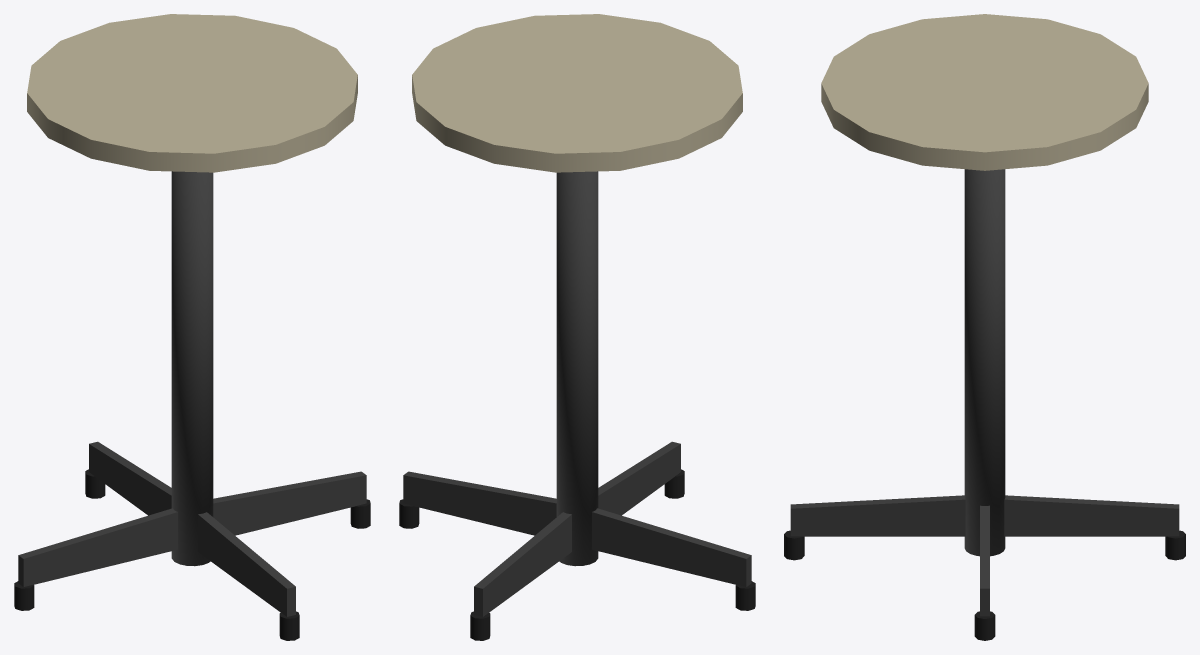
Rendered from SmallRoundTable.fbx.
3 renders of one model, left to right at view 1: azimuth 30°, elevation 25°; view 2: azimuth 150°, elevation 25°; view 3: azimuth 270°, elevation 25°, orthographic.
Visible parts, largest first — view 1: Cylinder, Cube, Cylinder.001; view 2: Cylinder, Cube, Cylinder.001; view 3: Cylinder, Cube, Cylinder.001.
Boxes of the visible parts, bbox=[...] form: Cylinder: bbox=[27, 14, 357, 172]; Cube: bbox=[14, 441, 370, 640]; Cylinder.001: bbox=[171, 171, 213, 566]; Cylinder: bbox=[412, 14, 742, 172]; Cube: bbox=[399, 441, 755, 640]; Cylinder.001: bbox=[556, 171, 598, 566]; Cylinder: bbox=[821, 14, 1148, 170]; Cube: bbox=[784, 495, 1185, 640]; Cylinder.001: bbox=[964, 169, 1005, 556].
Bounding box in the file's own units: 0.5891 × 0.765 × 0.5891.
